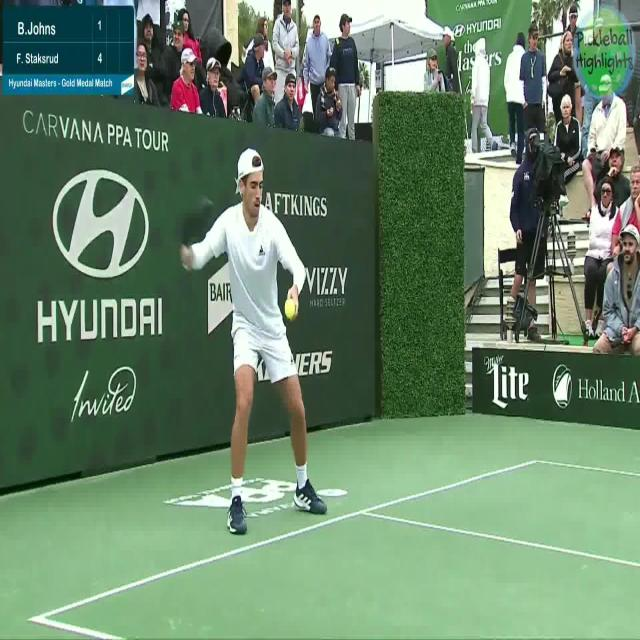ball: (282, 295, 300, 324)
